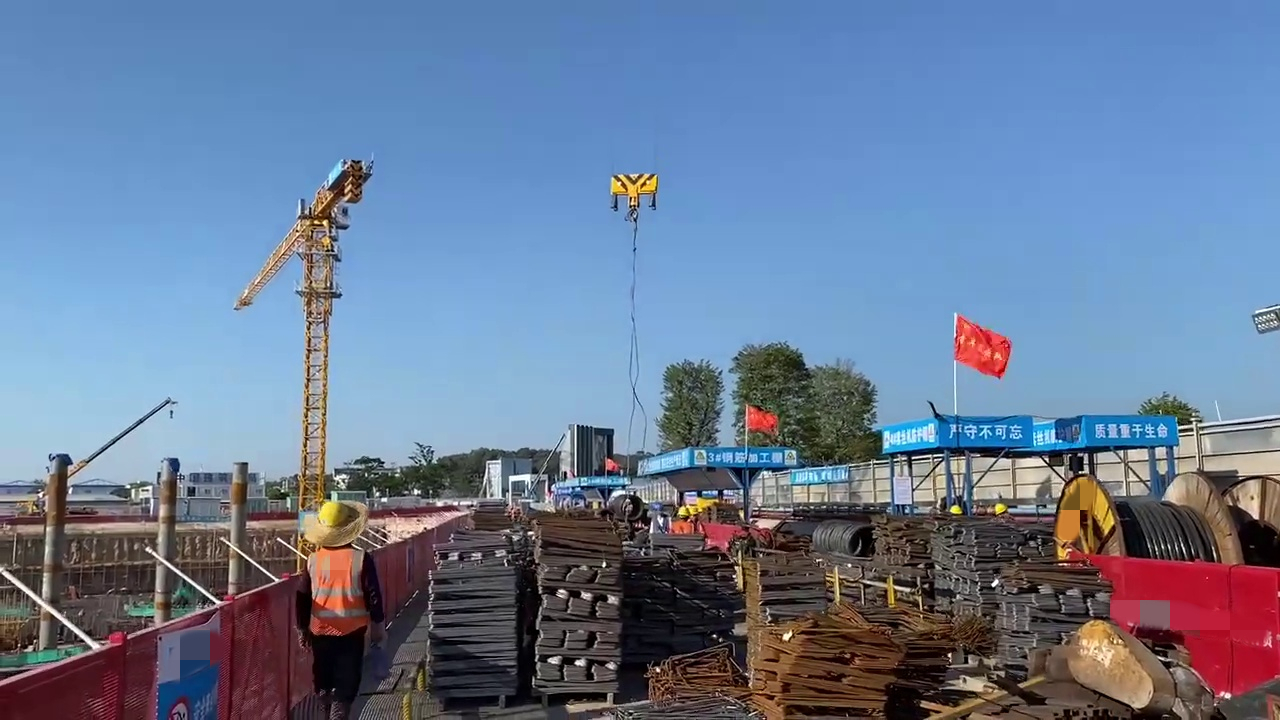fence: (4, 572, 305, 720), (379, 533, 422, 627)
helmet: (316, 501, 352, 527)
hook: (609, 174, 658, 212)
person: (296, 497, 375, 720), (671, 506, 696, 541)
rebar: (422, 528, 529, 709), (535, 500, 628, 694), (767, 630, 904, 720), (877, 511, 999, 602), (875, 598, 1003, 672), (648, 645, 758, 709)
slogan: (1084, 412, 1178, 446), (938, 417, 1036, 447)
vest: (308, 547, 362, 636)
